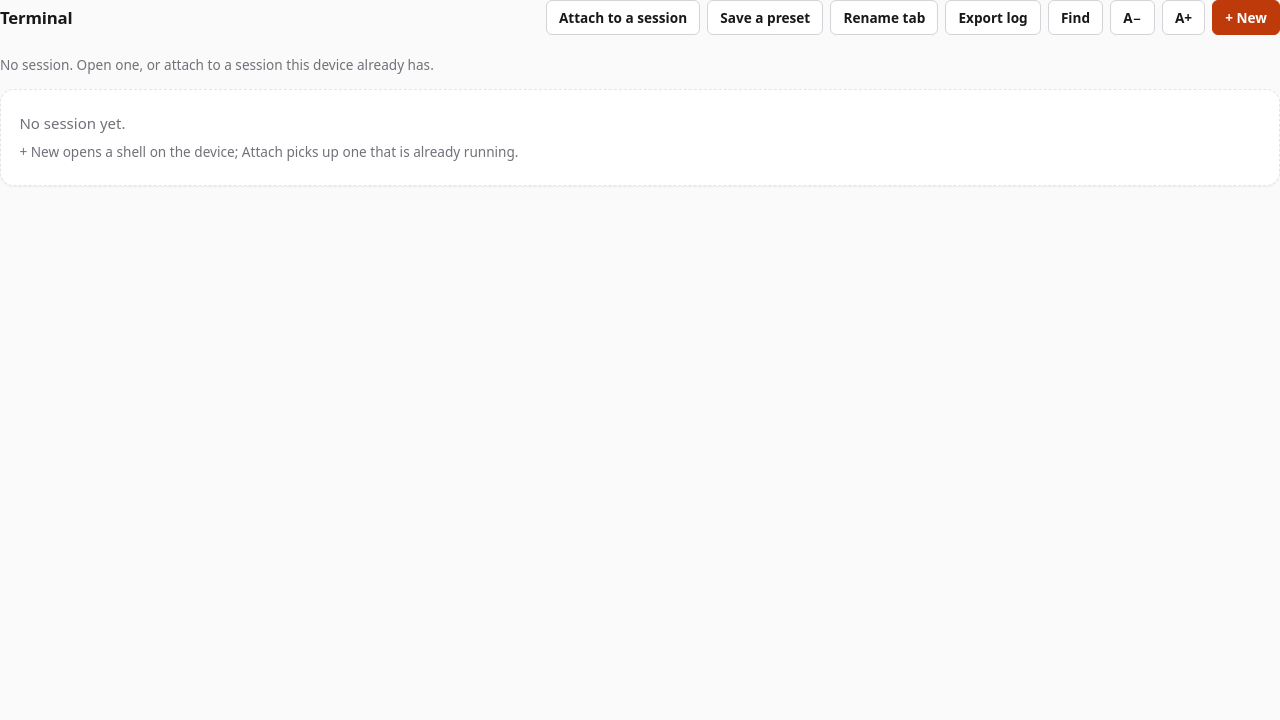
Test: TerminalWorkspace tab names › numbers a second tab after the first
Click the button "+ New" at (1246, 18), box left=1212, top=0, right=1279, bottom=35
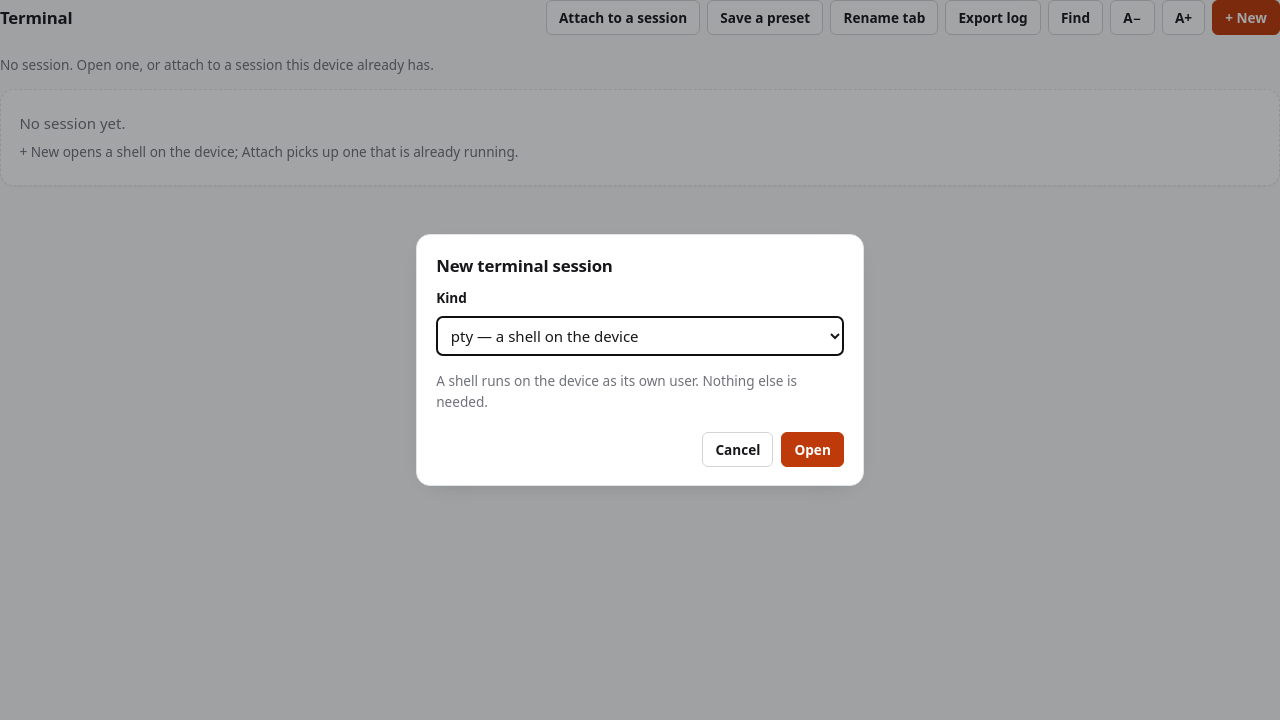
Click the button "Open" at (813, 449), box left=781, top=432, right=844, bottom=467
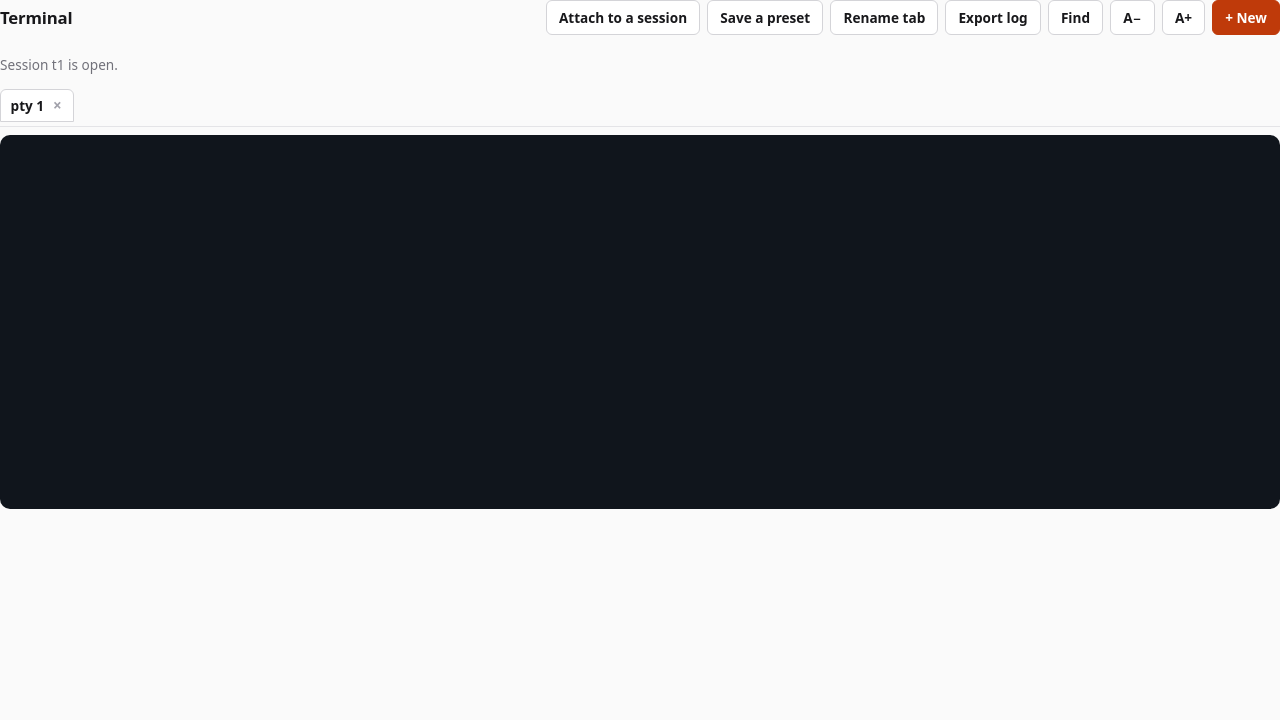
Expected: the heading "New terminal session" is gone
Expected: the tab "pty 1" is shown, left=0, top=89, right=74, bottom=122
Click the button "+ New" at (1246, 18), box left=1212, top=0, right=1279, bottom=35
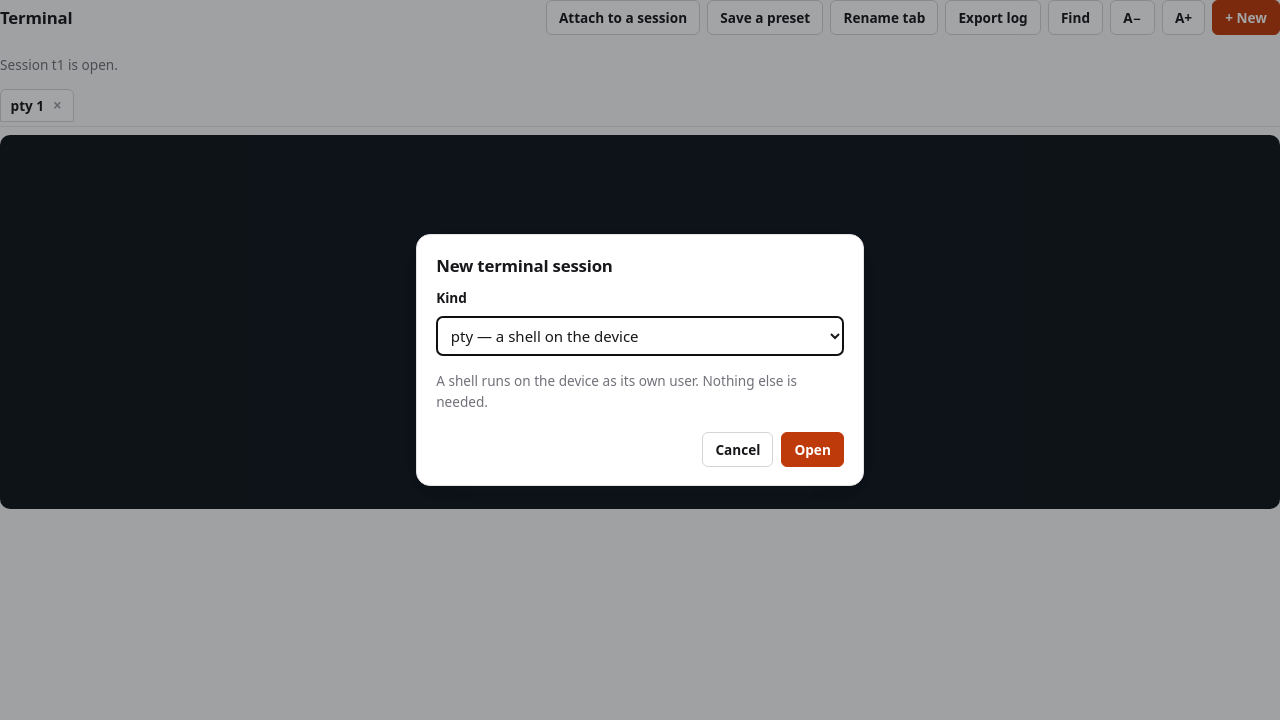
Click the button "Open" at (813, 449), box left=781, top=432, right=844, bottom=467
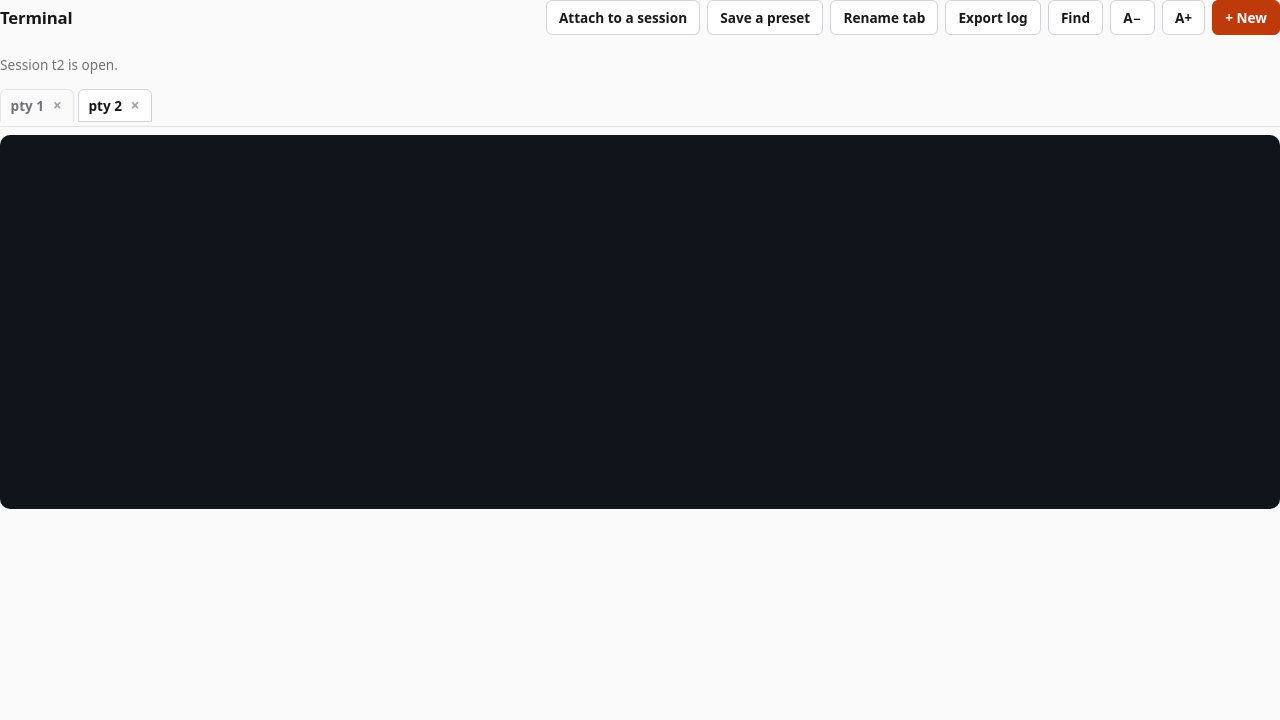
Expected: the heading "New terminal session" is gone
Expected: the tab "pty 2" is shown, left=78, top=89, right=152, bottom=122
Expected: the number of tabs is 2, left=0, top=89, right=74, bottom=122; left=78, top=89, right=152, bottom=122
